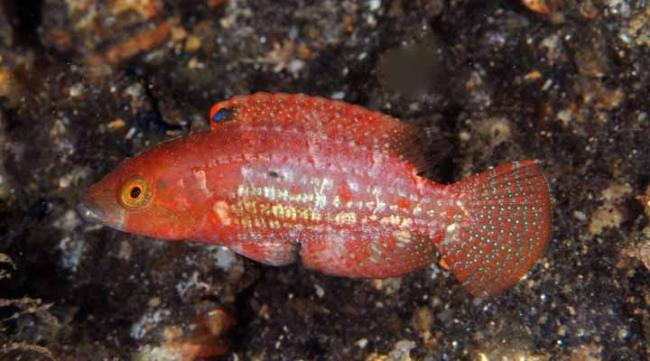fish: (85, 92, 558, 299)
